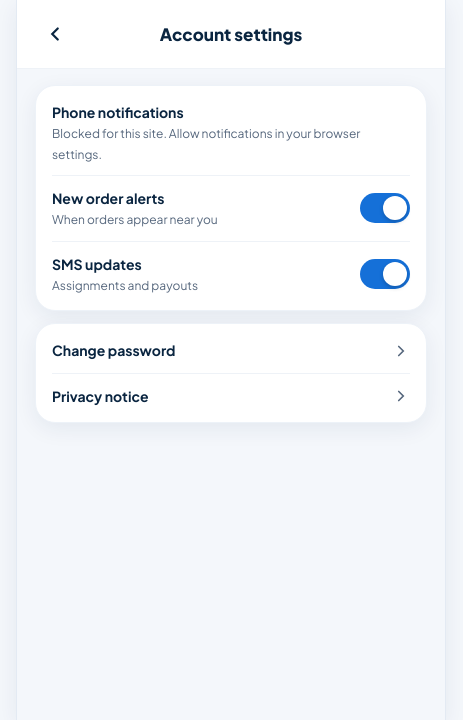
it: partner account screens without email or "News and offers" (#85) › shows the server message when saving an alert fails
What coordinates should you click on to do the following:
click the switch named "SMS updates"
I would click on:
 (385, 274)
Its box is x1=360 y1=259 x2=410 y2=289.
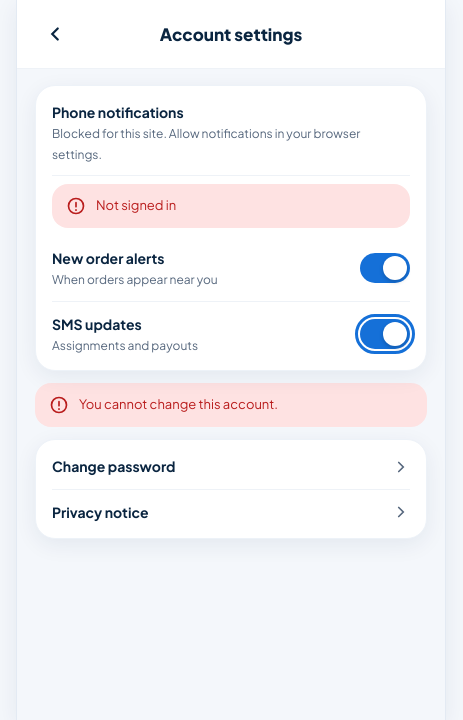
Check: the text "You cannot change this account." is shown, box x1=79 y1=396 x2=278 y2=416
